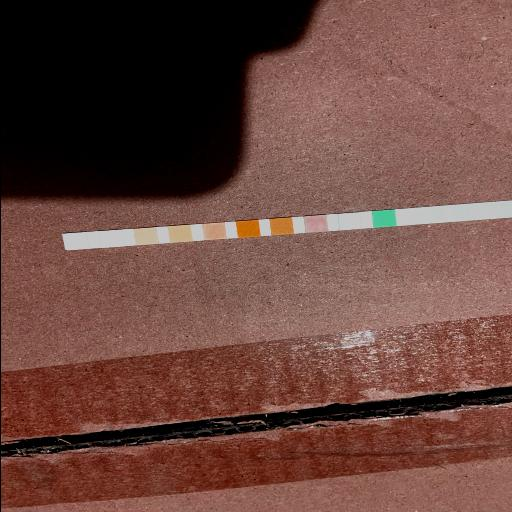Bilirubin: (338, 214, 358, 228)
Blood: (237, 222, 257, 236)
Glucose: (372, 212, 394, 226)
Ketone: (305, 216, 325, 232)
Leukocytes: (65, 234, 85, 248)
Nitrite: (102, 232, 120, 246)
Protein: (169, 226, 188, 241)
SpGravity: (272, 219, 291, 233)
Urobilinogen: (135, 229, 154, 243)
pH: (204, 224, 223, 238)
strip: (60, 200, 512, 251)
